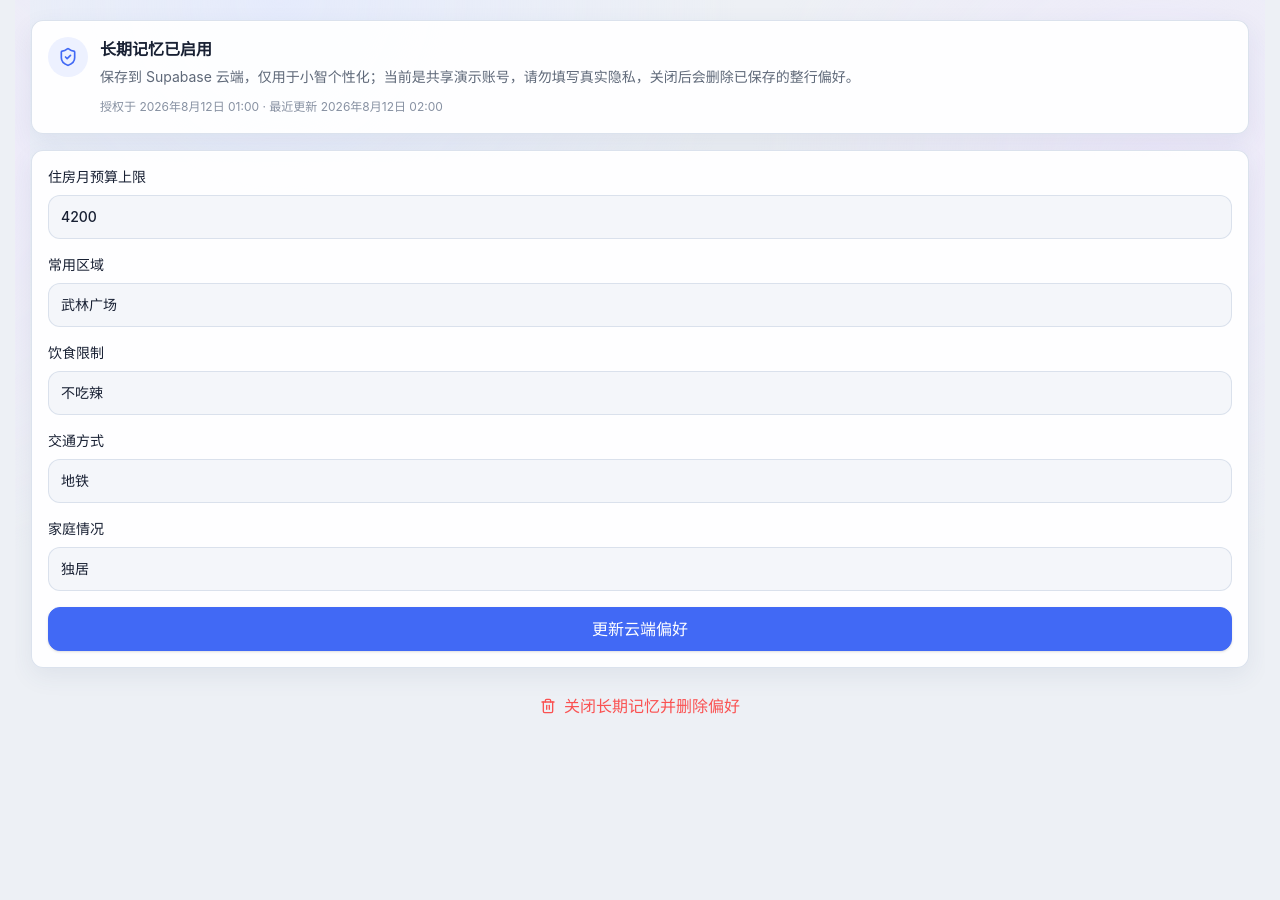
Test: PreferencesExperience › keeps edited form values and reports the API error when saving fails
Replace the text in the field labelled "常用区域" with "武林广场,滨江" at coordinates (640, 305), box 48,283 -> 1232,327
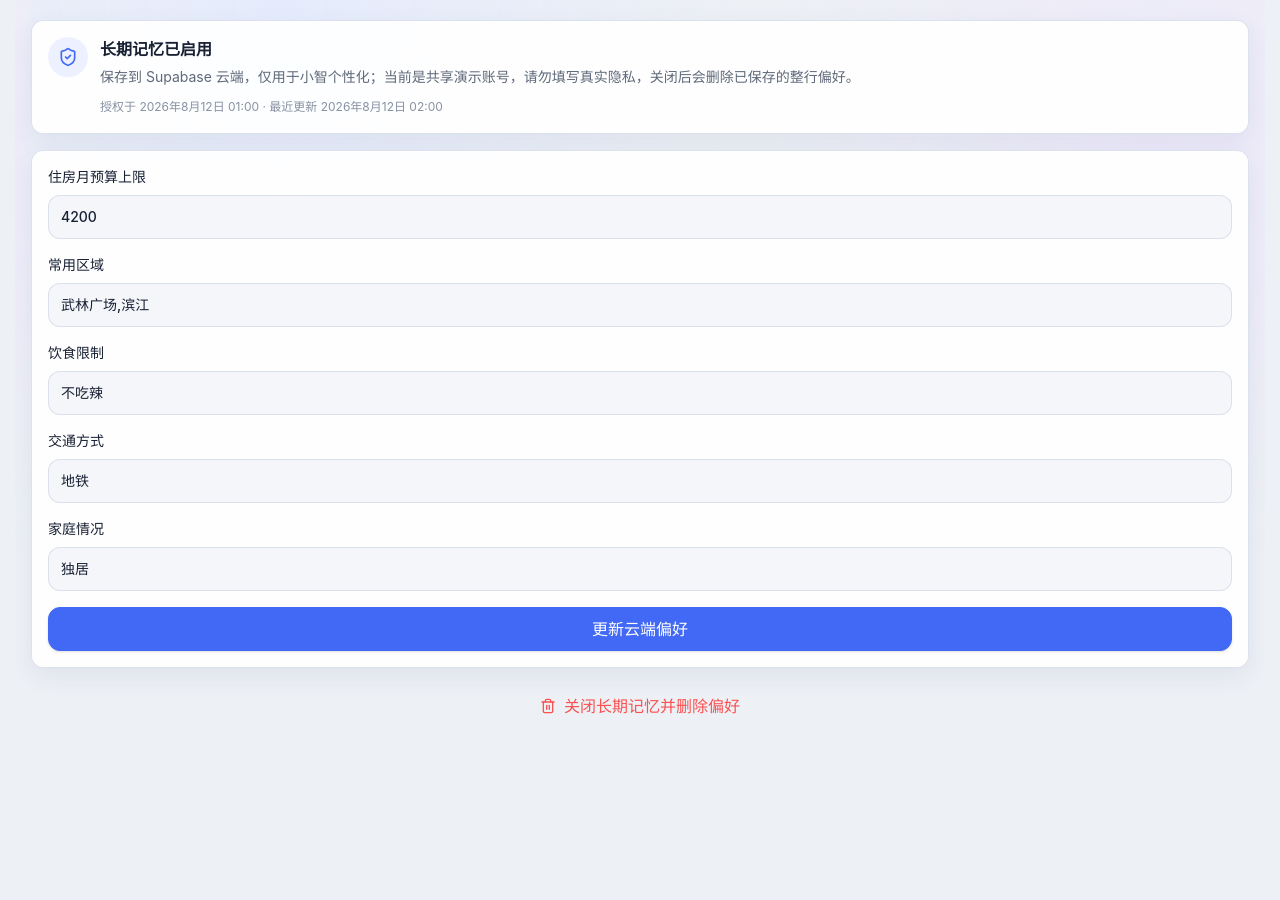
Click the button "更新云端偏好".
click(640, 629)  # box 48,607 -> 1232,651
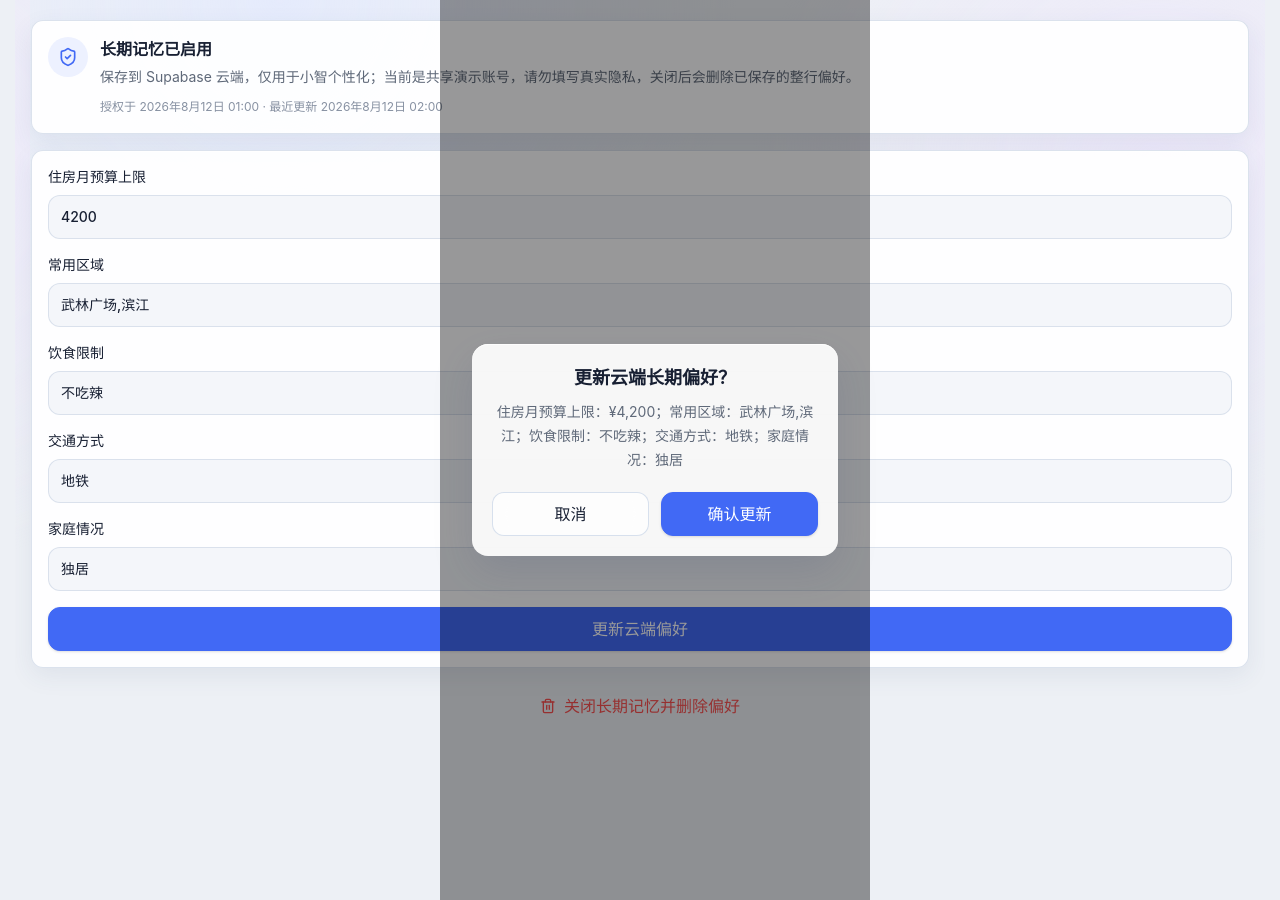
Click the button "确认更新".
click(740, 514)  # box 661,492 -> 818,536
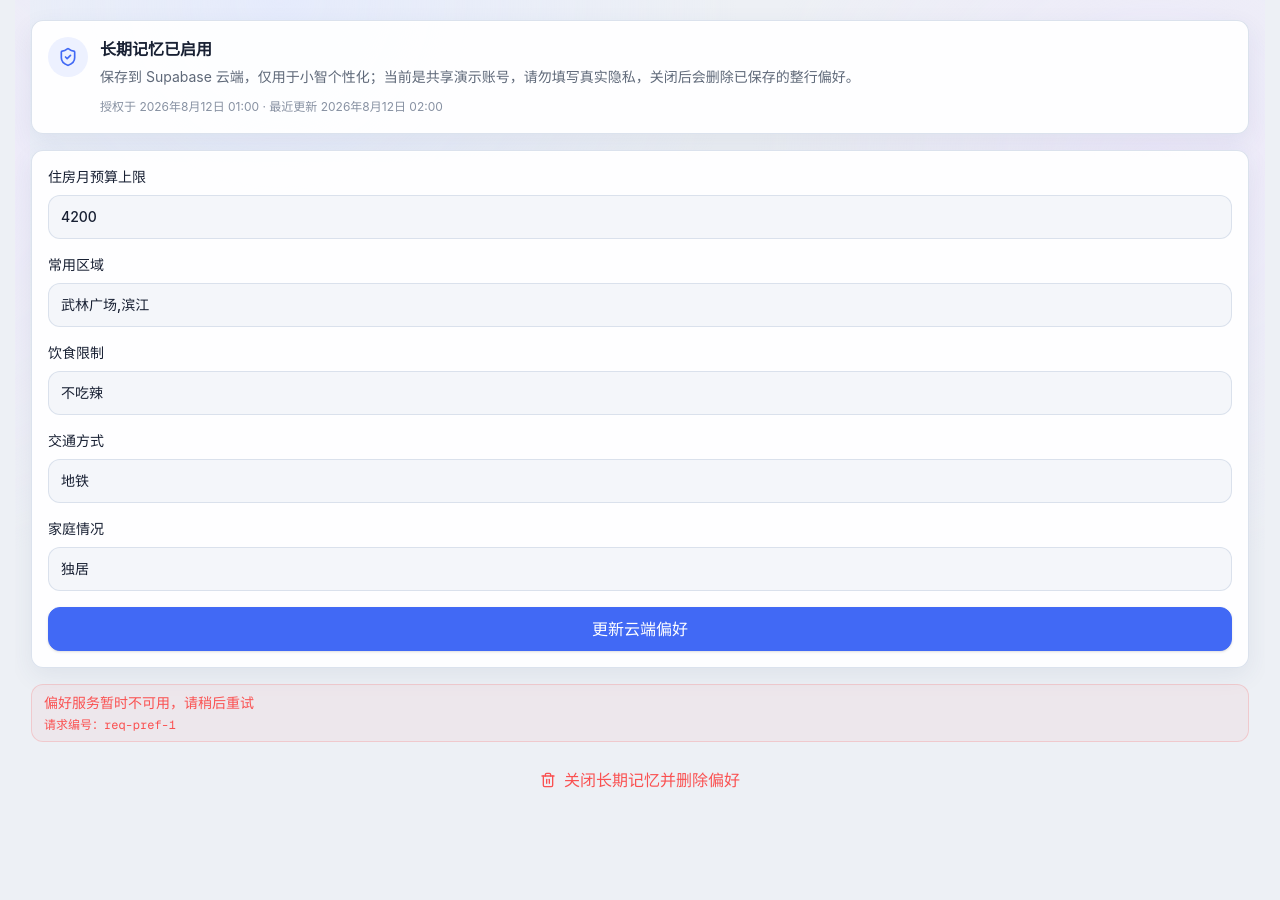
Result: the message shows "偏好服务暂时不可用，请稍后重试" at 44,694 -> 254,711
